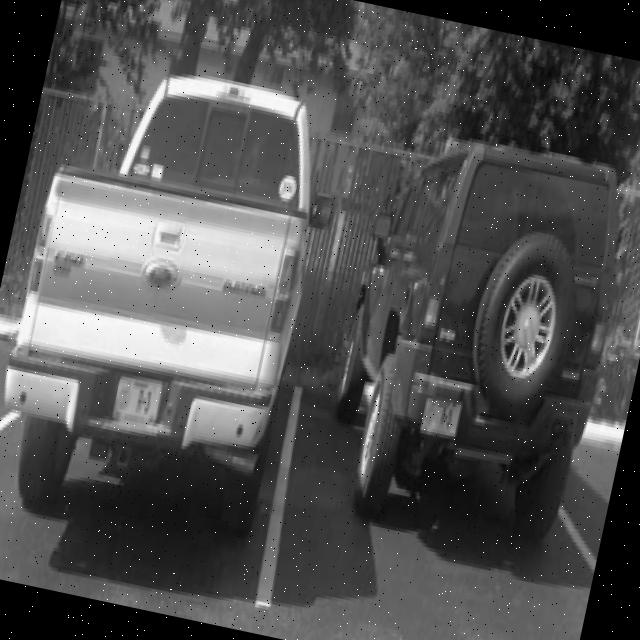Autre: (111, 368, 172, 428), (420, 396, 470, 444)
